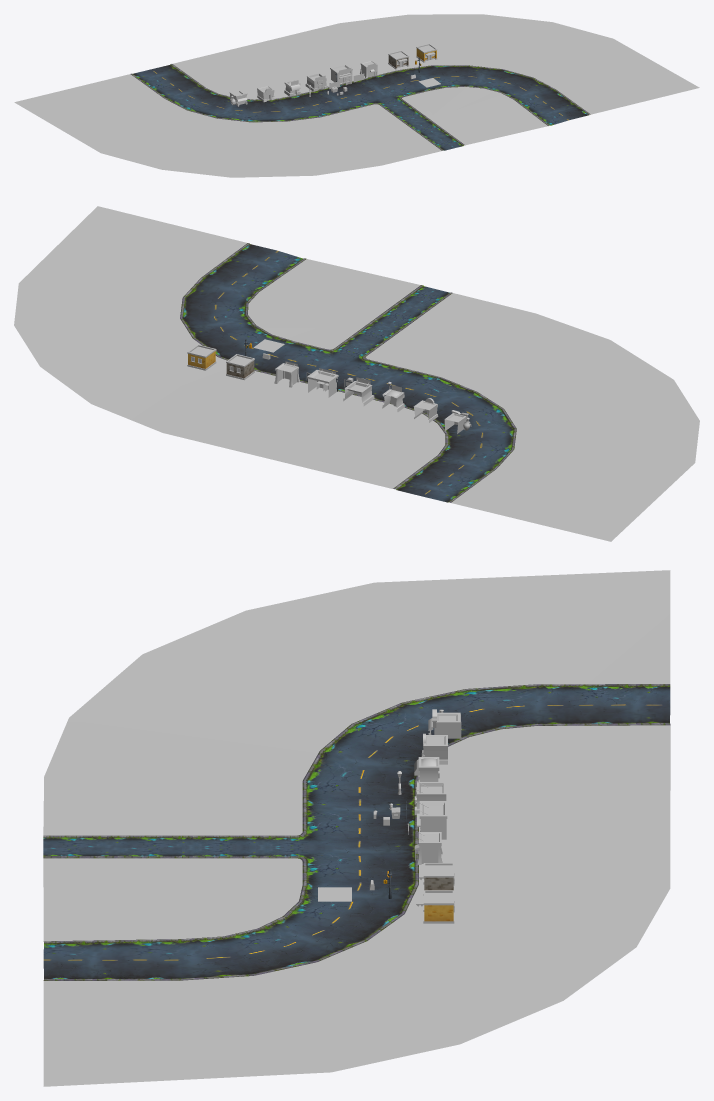
3 views of the same model, one above another, from view 1: azimuth 30°, elevation 25°; view 2: azimuth 150°, elevation 25°; view 3: azimuth 270°, elevation 25° (orthographic). The views are drawn at different scales.
Parts seen in each view (by area): view 1: jietou_dimian, f05, fz04, fz08, fz09; view 2: jietou_dimian, f05, fz08, fz09; view 3: jietou_dimian, fz09, f05, fz08, fz01, fz06.
Boxes of the visible parts, box(x1,y1,x2,y2) form: jietou_dimian: box(14, 14, 699, 177); f05: box(330, 64, 352, 83); fz04: box(305, 73, 328, 91); fz08: box(388, 50, 409, 69); fz09: box(416, 43, 437, 62); jietou_dimian: box(14, 206, 699, 541); f05: box(307, 368, 338, 397); fz08: box(226, 354, 254, 380); fz09: box(187, 344, 216, 370); jietou_dimian: box(43, 570, 670, 1086); fz09: box(423, 890, 454, 923); f05: box(417, 801, 447, 839); fz08: box(423, 863, 454, 895); fz01: box(428, 709, 461, 738); fz06: box(414, 832, 442, 864).
Bounding box in the file's own units: 15046 × 423 × 7720.
